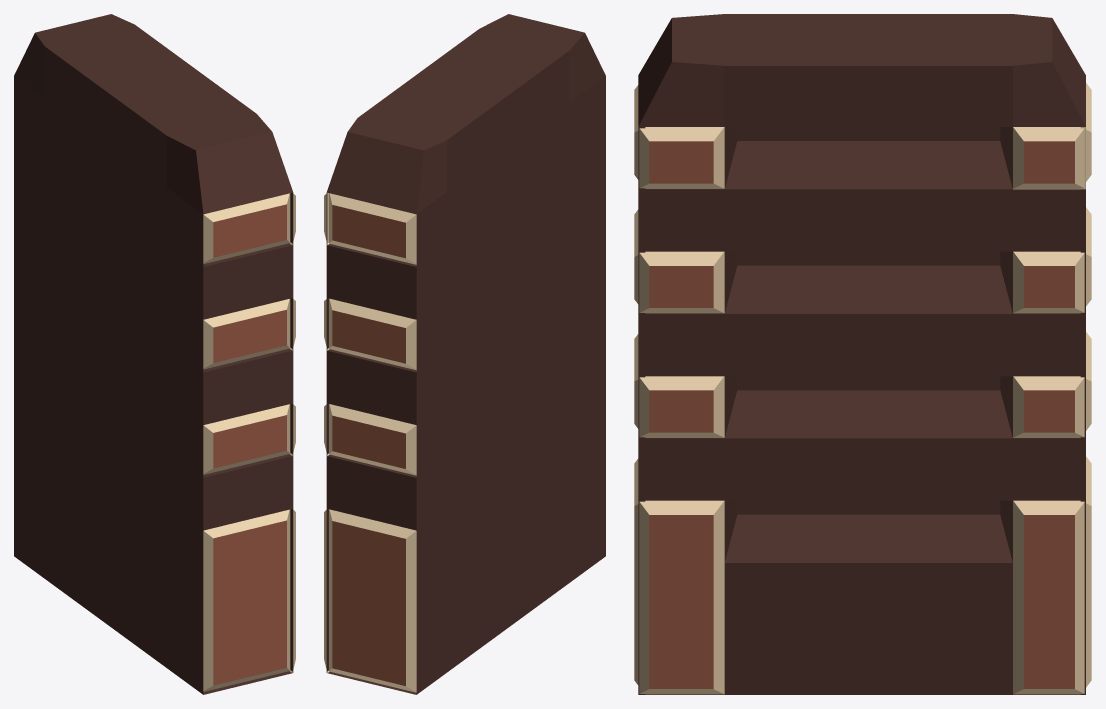
The model's file is shelf.glb.
3 renders of one model, left to right at view 1: azimuth 30°, elevation 25°; view 2: azimuth 150°, elevation 25°; view 3: azimuth 270°, elevation 25°, orthographic. The views are drawn at different scales.
Parts seen in each view (by area): view 1: Cube.005; view 2: Cube.005; view 3: Cube.005.
Boxes of the visible parts, x1=… form: Cube.005: x1=14, y1=14, x2=295, y2=694; Cube.005: x1=324, y1=14, x2=605, y2=694; Cube.005: x1=634, y1=14, x2=1091, y2=694.
Bounding box in the file's own units: 2.74 × 14.35 × 9.46.
